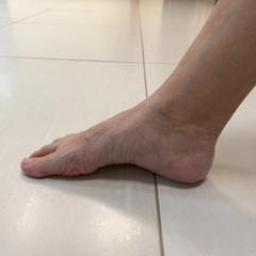Medial View -Right Foot-: (11, 66, 230, 204)
